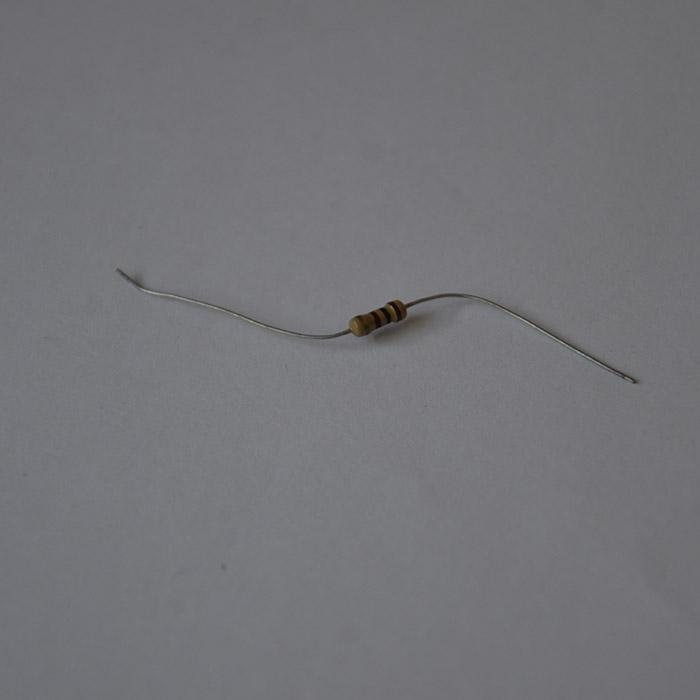resistor: (349, 298, 408, 336)
